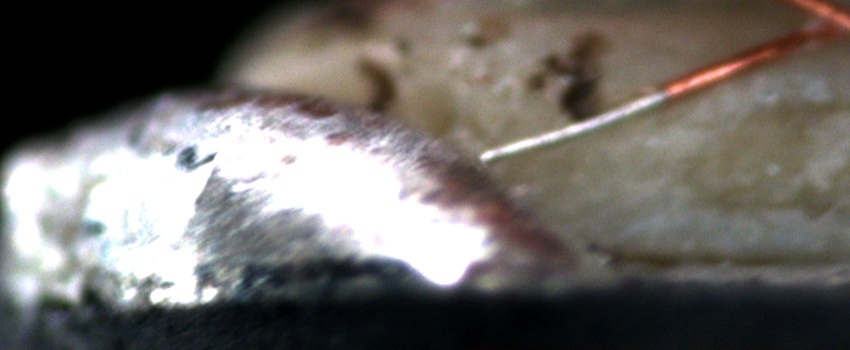DL: (691, 47, 850, 96)
TS: (479, 89, 666, 164)
